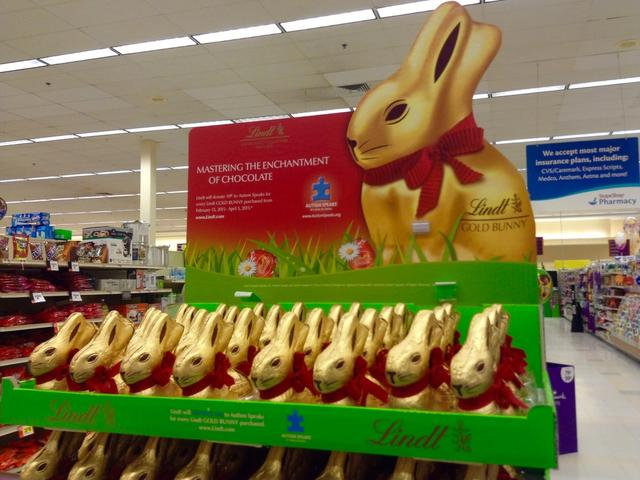rabbit: (331, 9, 567, 277), (22, 307, 103, 386), (161, 331, 247, 399)
